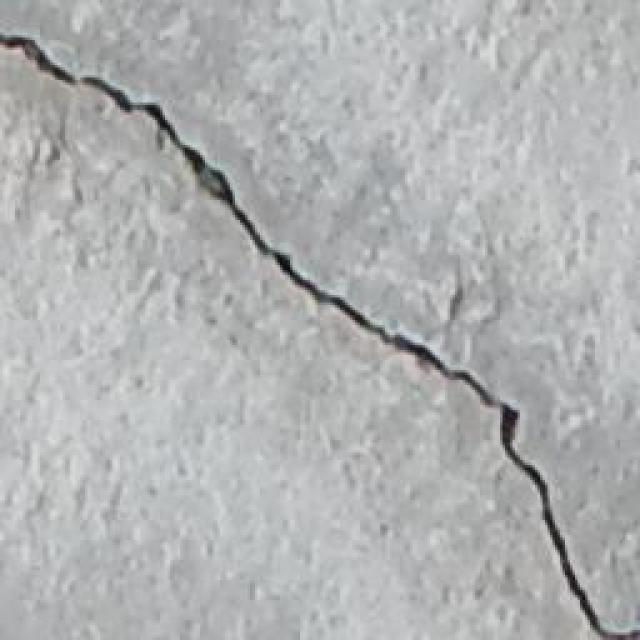concrete-crack: (0, 26, 640, 640)
